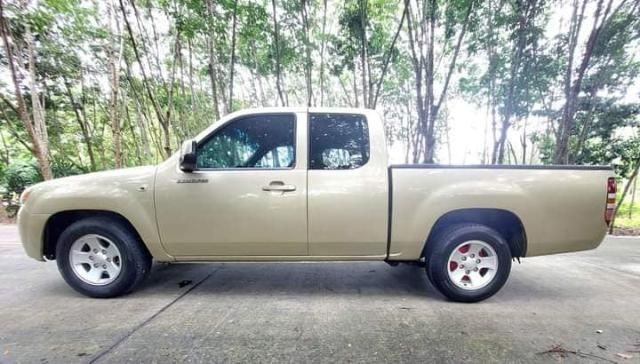pickup-truck: (13, 96, 625, 315)
